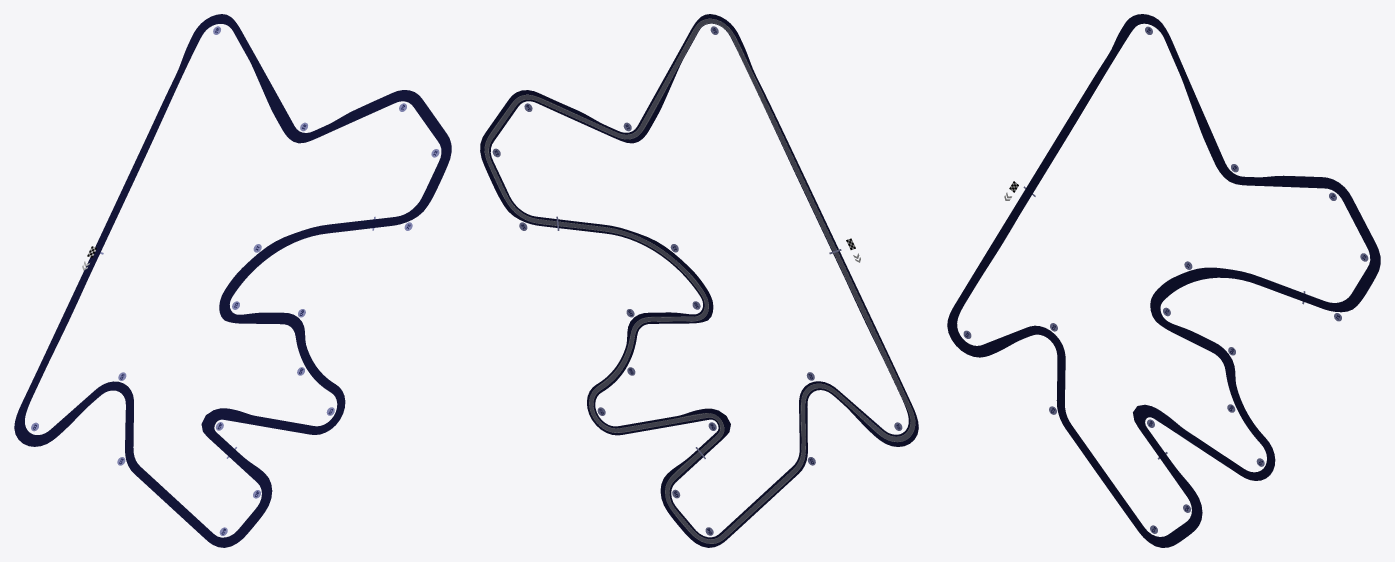
File: losail.glb
3 renders of one model, left to right at view 1: azimuth 30°, elevation 25°; view 2: azimuth 150°, elevation 25°; view 3: azimuth 330°, elevation 25°, orthographic.
Visible parts, largest first — view 1: RunOff; view 2: RunOff, Road, WhiteLines; view 3: RunOff.
Part boxes in pixels (x1,y1,x2,y2): RunOff: [14, 14, 451, 547]; RunOff: [480, 14, 918, 547]; Road: [484, 19, 914, 543]; WhiteLines: [484, 18, 915, 543]; RunOff: [947, 14, 1380, 547].
Bounding box in the file's own units: 1292 × 1508 × 29.2.
